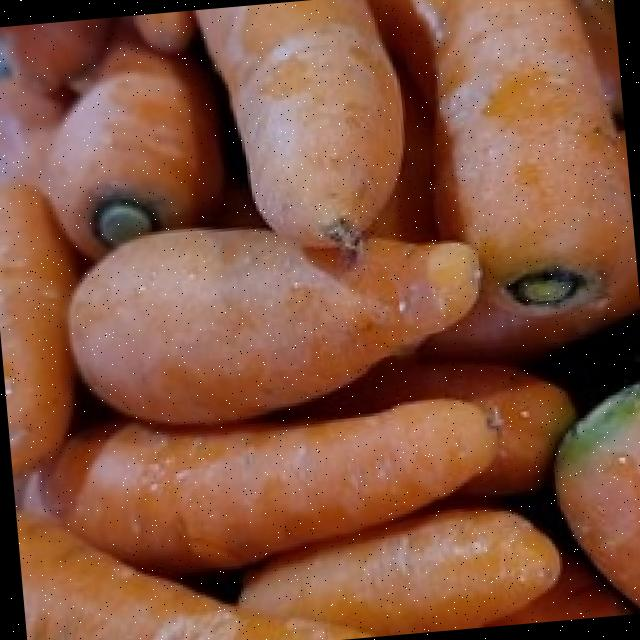carrot: (26, 361, 571, 570), (413, 0, 640, 355), (71, 229, 477, 420), (197, 0, 403, 246), (15, 510, 356, 640)
